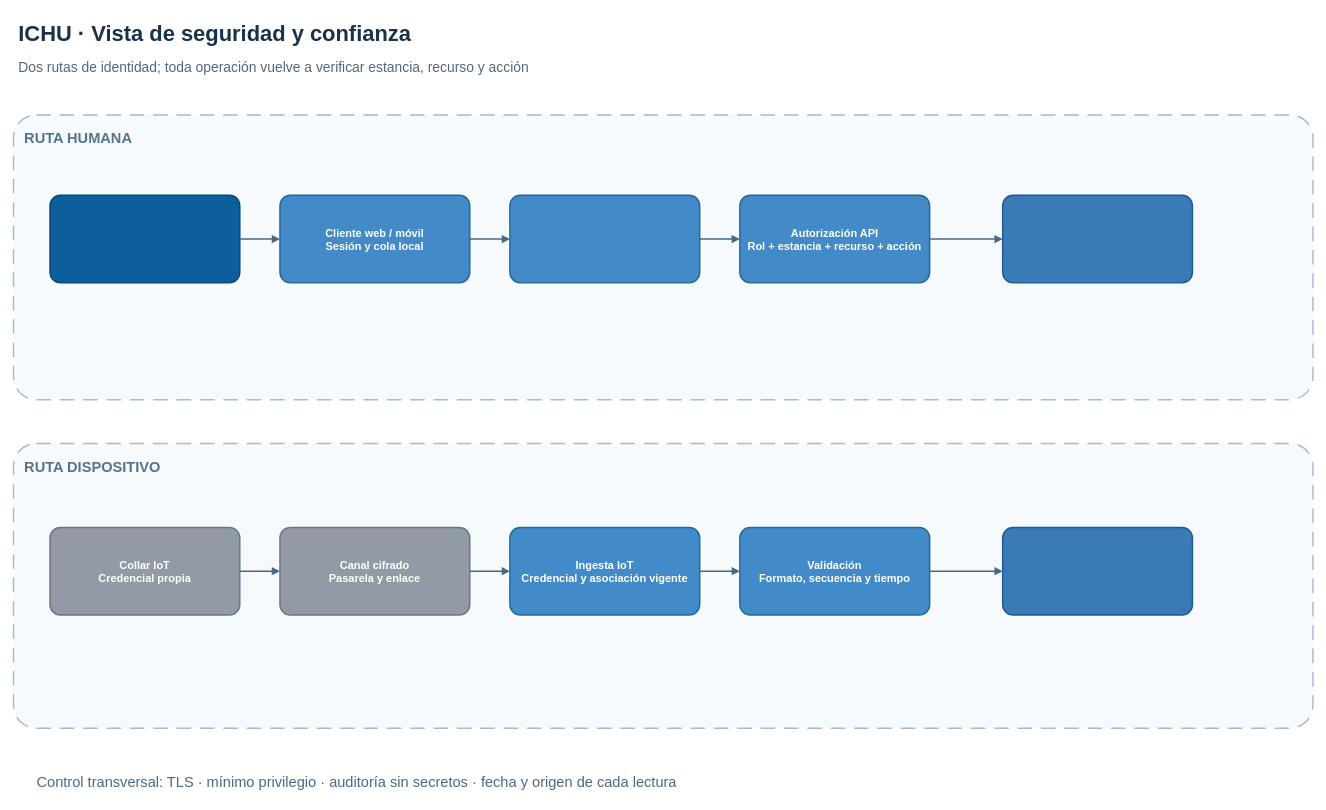
This 1326x810 diagram has some shape labels left out. Each missing label, with the centre of its shape:
Identidad Token y revocación: point 604,238
Lectura aceptada Persistencia idempotente: point 1097,570
Operación permitida Inventario, alerta o salud: point 1097,238
Usuario Propietario, capataz o veterinario: point 144,238
